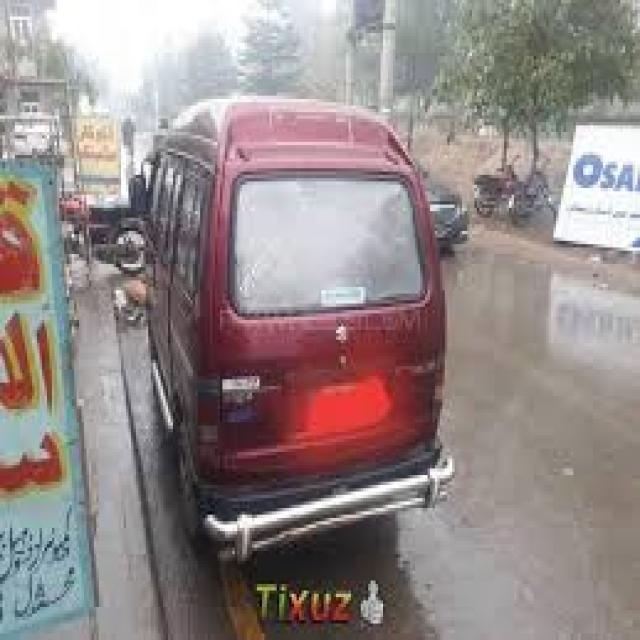Van: (116, 89, 462, 561)
